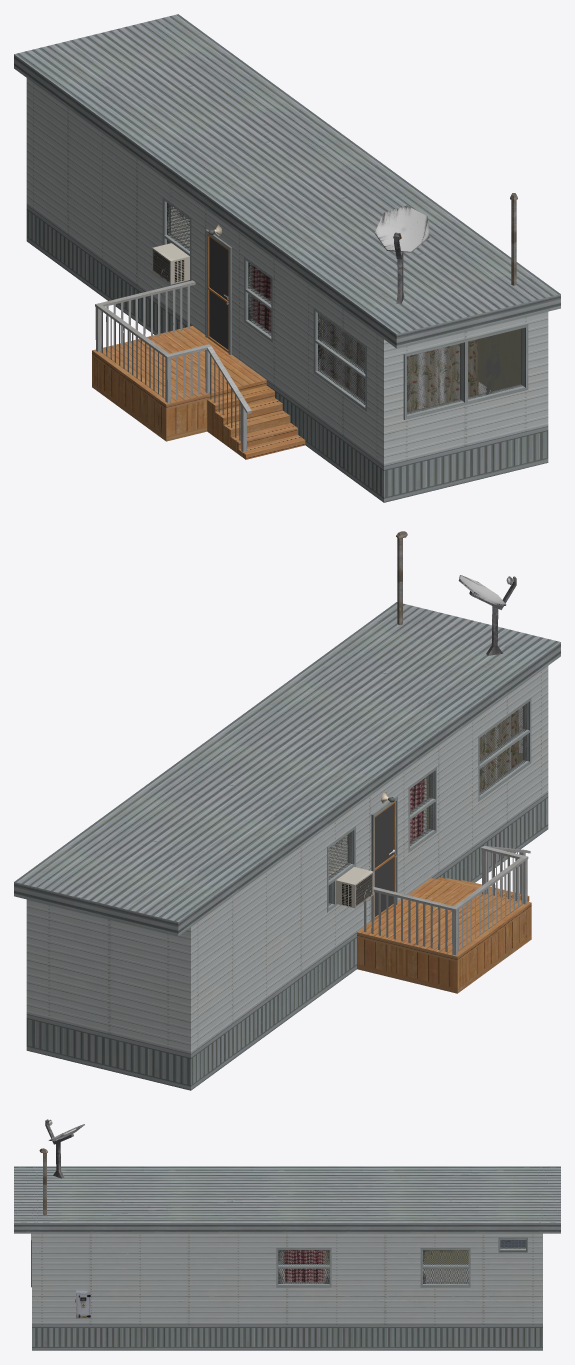
File: trailer.glb
The picture shows the model from 3 angles, top to bottom: view 1: azimuth 30°, elevation 25°; view 2: azimuth 150°, elevation 25°; view 3: azimuth 270°, elevation 25°; orthographic projection. The views are drawn at different scales.
Parts seen in each view (by area): view 1: Home, Mesh, railing, Curtain_01.001, Antenna, air-conditioning, Curtain.001; view 2: Home, Mesh, railing, Curtain_01.001, air-conditioning, Antenna; view 3: Home, Mesh, Curtain.001, Antenna, Fuse_box.002.
Part boxes in pixels (x1=…): Home: x1=14, y1=14, x2=560, y2=502; Mesh: x1=167, y1=203, x2=523, y2=414; railing: x1=95, y1=280, x2=251, y2=451; Curtain_01.001: x1=322, y1=316, x2=478, y2=411; Antenna: x1=374, y1=205, x2=429, y2=303; air-conditioning: x1=152, y1=240, x2=189, y2=284; Curtain.001: x1=252, y1=265, x2=271, y2=331; Home: x1=14, y1=602, x2=560, y2=1090; Mesh: x1=328, y1=703, x2=526, y2=916; railing: x1=364, y1=845, x2=530, y2=955; Curtain_01.001: x1=479, y1=707, x2=522, y2=790; air-conditioning: x1=328, y1=864, x2=373, y2=908; Antenna: x1=458, y1=575, x2=516, y2=655; Home: x1=14, y1=1166, x2=560, y2=1350; Mesh: x1=278, y1=1240, x2=525, y2=1283; Curtain.001: x1=284, y1=1250, x2=324, y2=1282; Antenna: x1=45, y1=1119, x2=84, y2=1178; Fuse_box.002: x1=75, y1=1290, x2=90, y2=1318.
Size of the model in its own units: 6.3 by 5.91 by 15.11.
Materials: 20 (20 with a texture image).
